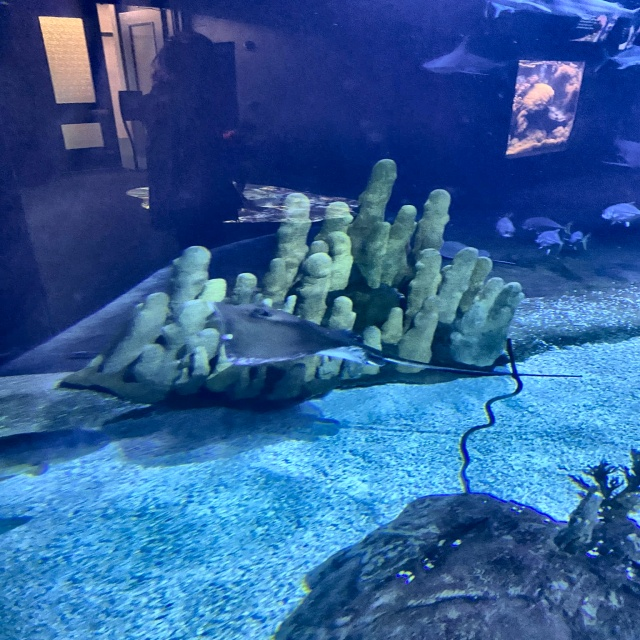fish: (599, 45, 639, 72), (521, 215, 572, 235), (602, 202, 639, 226), (535, 229, 564, 256), (565, 231, 591, 251), (496, 213, 515, 238)
shark: (488, 0, 639, 25), (422, 36, 509, 79)
stingray: (211, 300, 385, 367)
